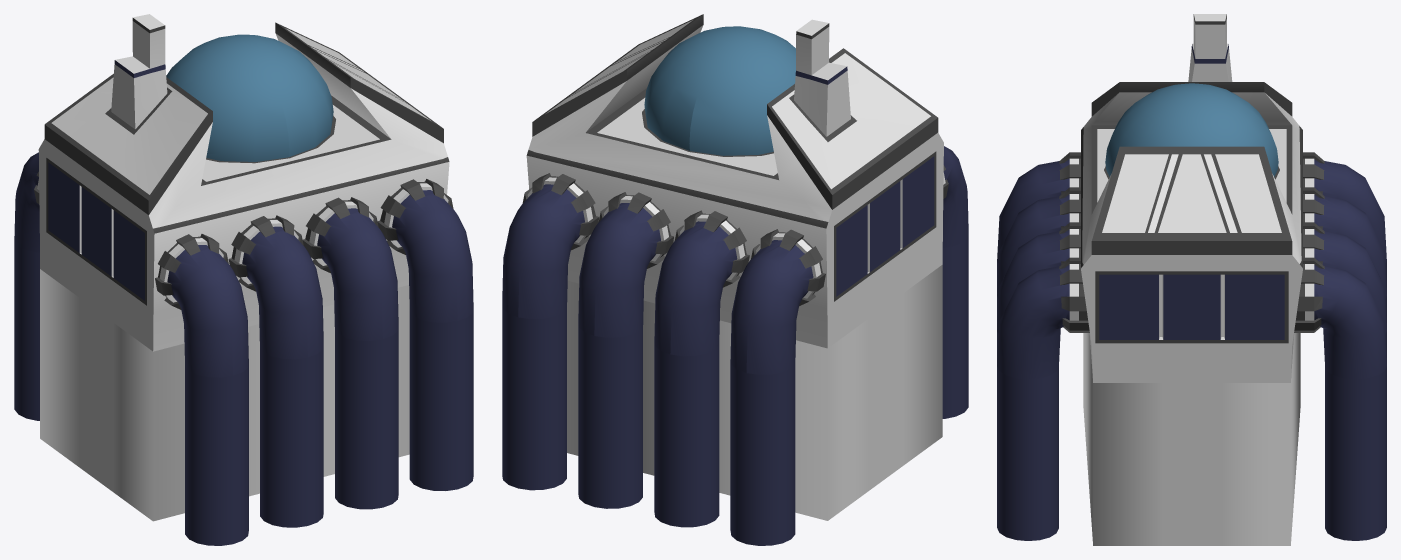
File: SM_HydroGenerator.fbx
3 renders of one model, left to right at view 1: azimuth 30°, elevation 25°; view 2: azimuth 150°, elevation 25°; view 3: azimuth 270°, elevation 25°, orthographic. The views are drawn at different scales.
Visible parts, largest first — view 1: base, pipe; view 2: base, pipe; view 3: base, pipe.
Part boxes in pixels (box(x1,y1,x2,y2)): base: box(38, 14, 449, 521); pipe: box(14, 152, 473, 545); base: box(526, 14, 943, 520); pipe: box(502, 146, 968, 545); base: box(1081, 14, 1302, 545); pipe: box(997, 152, 1386, 540).
Bounding box in the file's own units: 1007 × 1423 × 1200.
